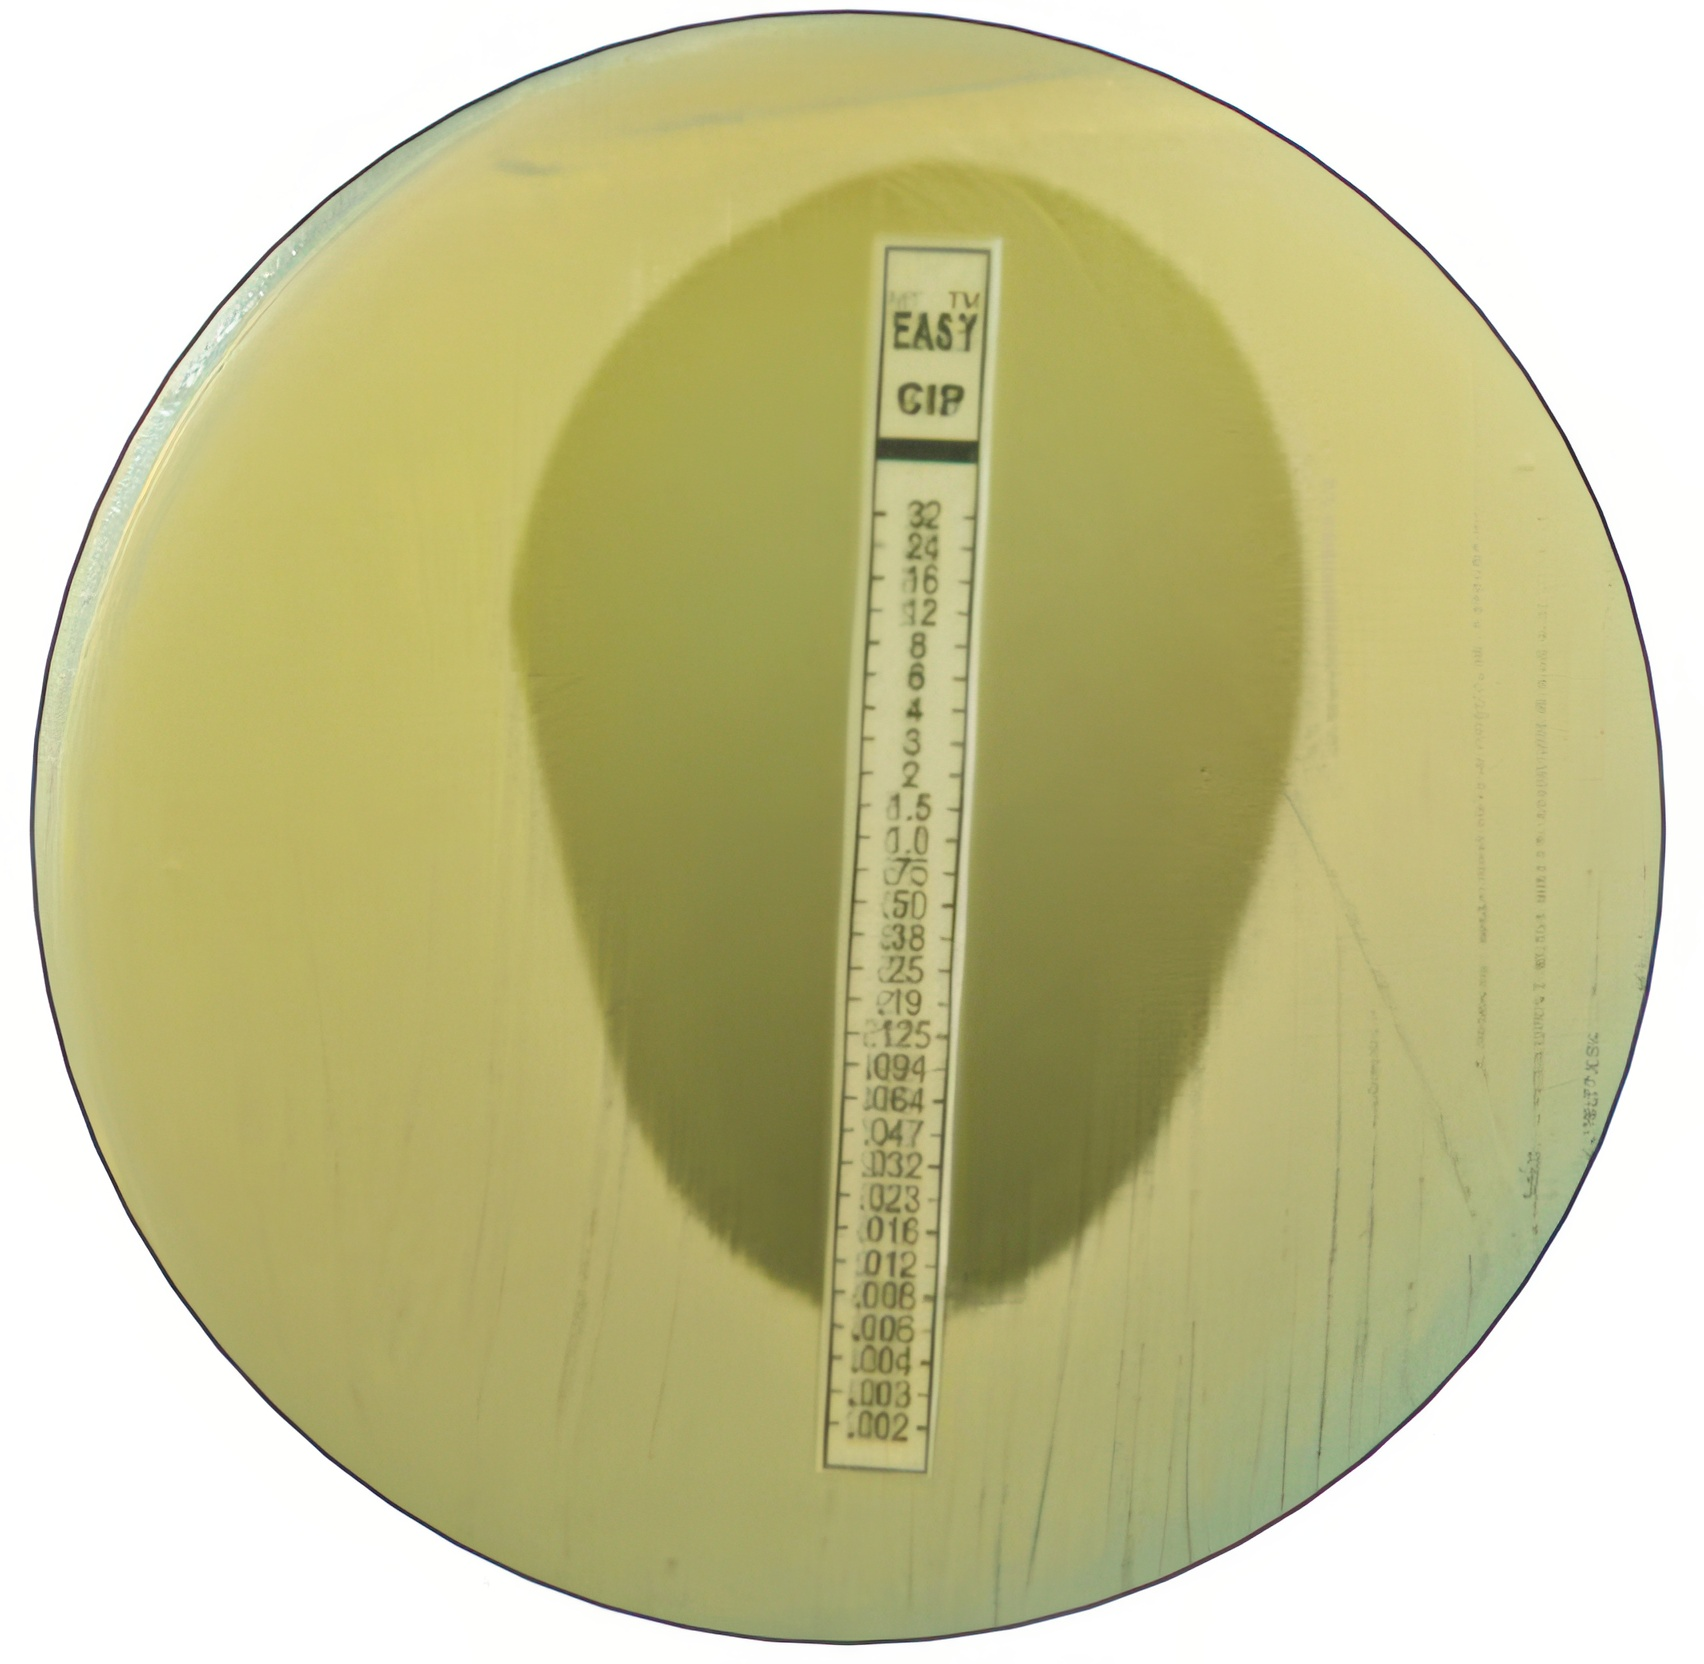line: (812, 233, 1001, 1480)
zone: (485, 148, 1324, 1321)
